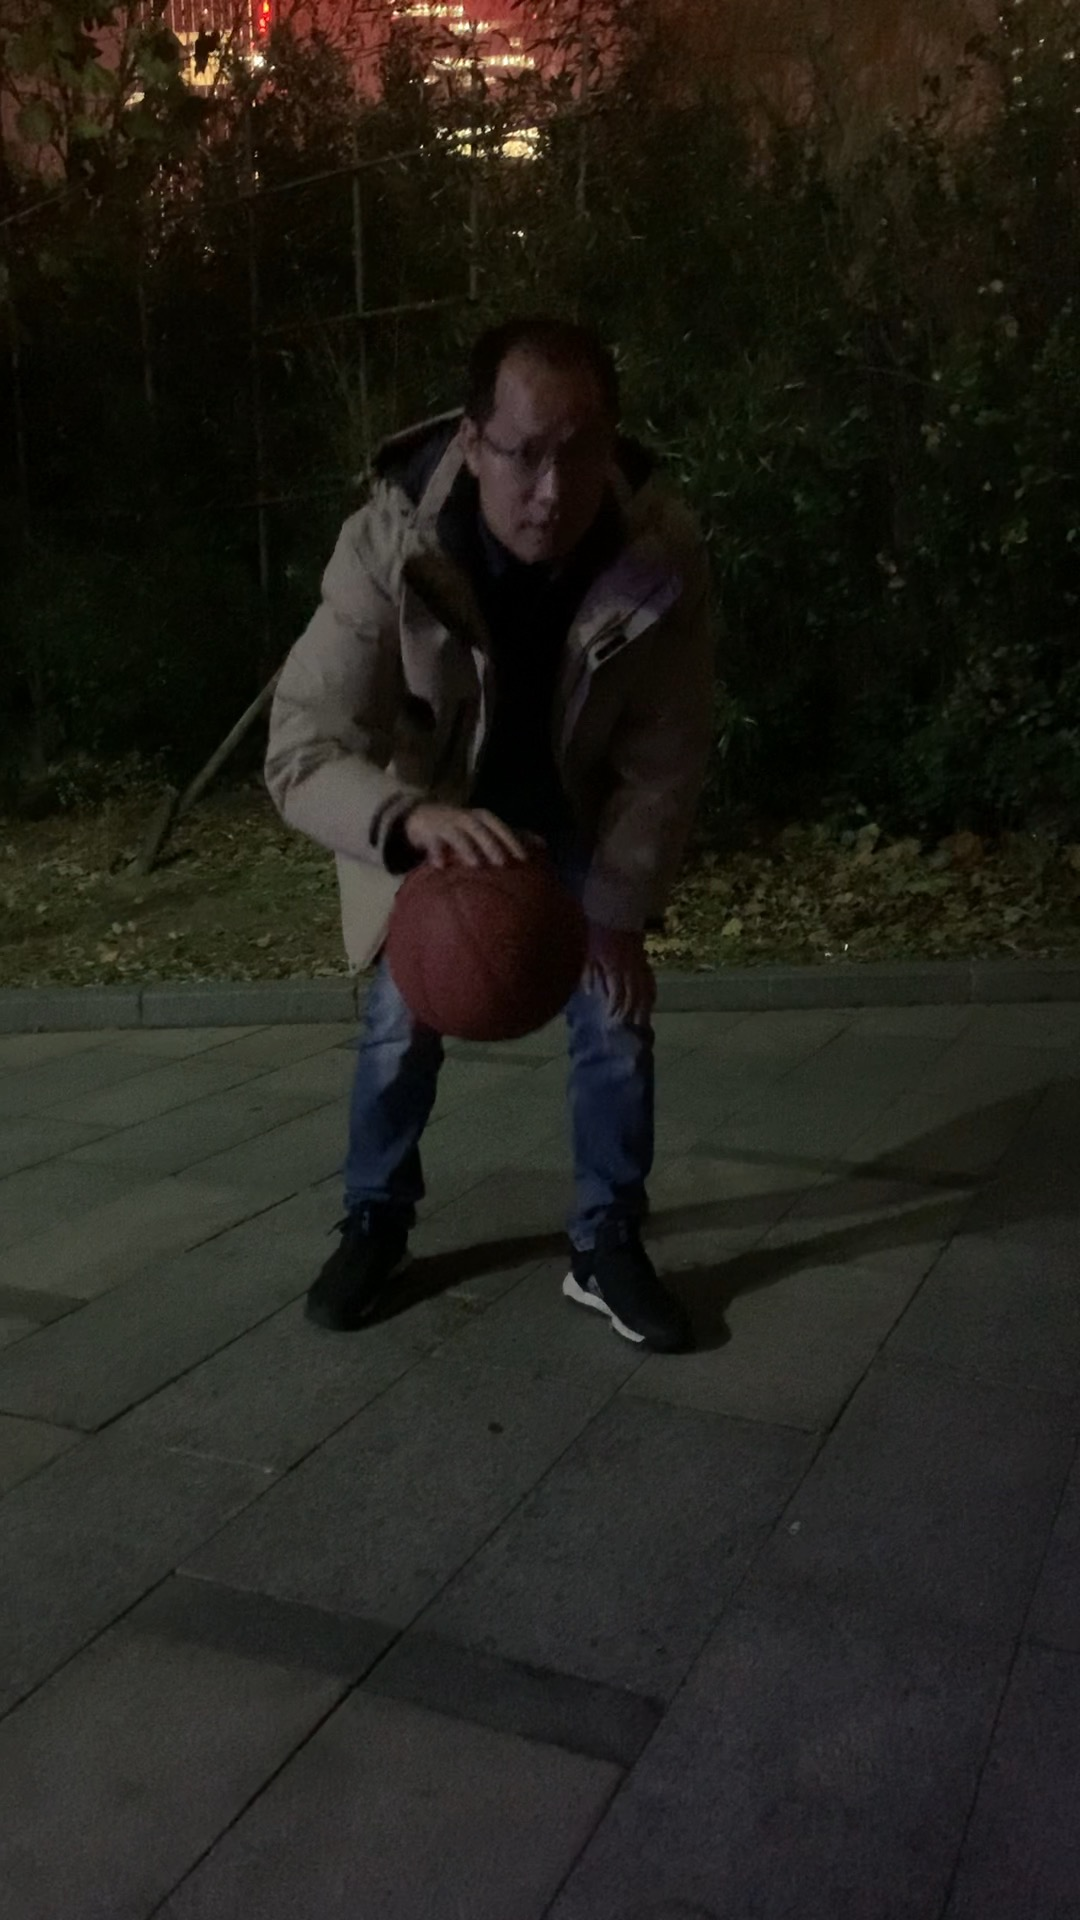ball: (392, 855, 591, 1039)
